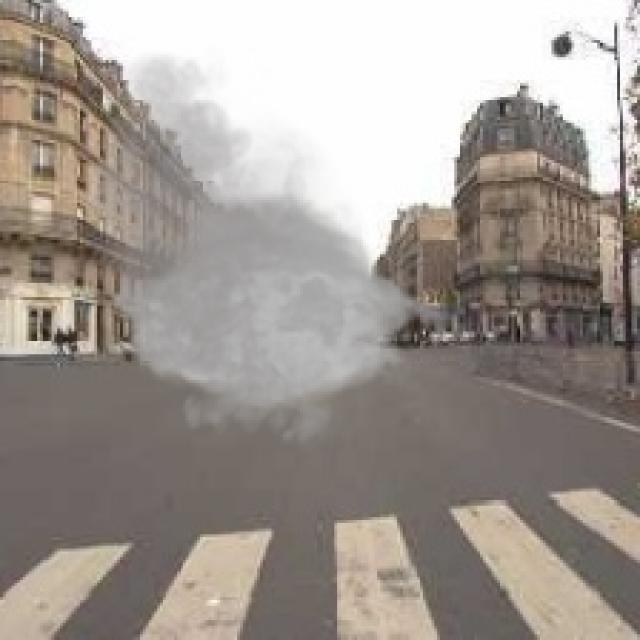Smoke: (69, 46, 468, 457)
